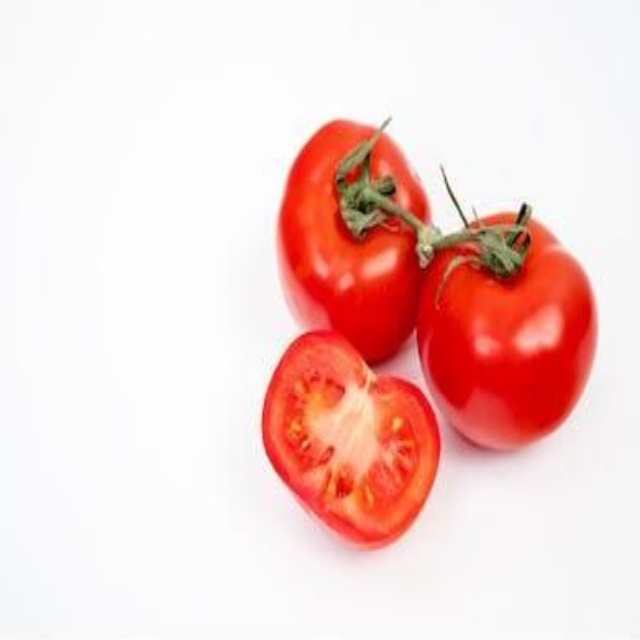tomato: (241, 330, 455, 550), (411, 208, 592, 448), (279, 125, 428, 364)
